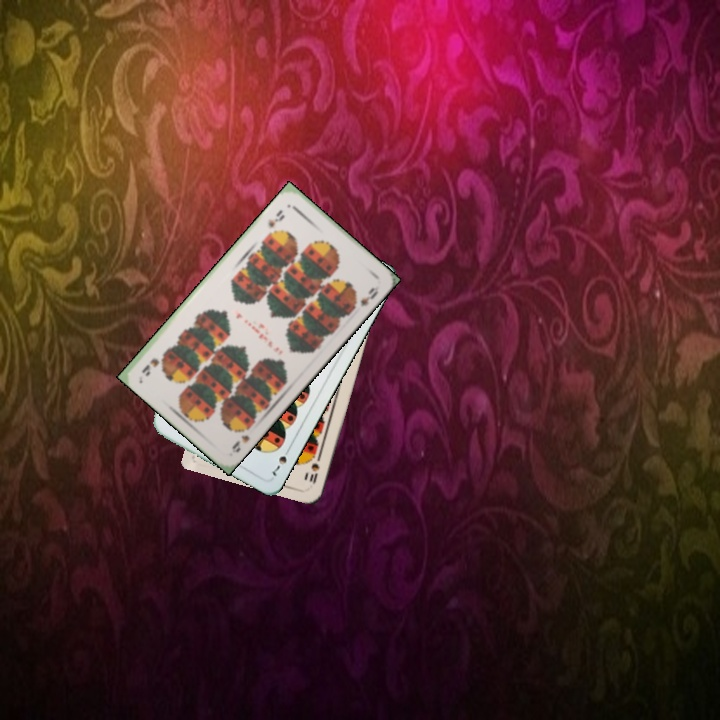S10: (305, 450, 324, 487)
S7: (267, 443, 293, 479)
S9: (228, 421, 255, 455), (264, 206, 287, 230)
